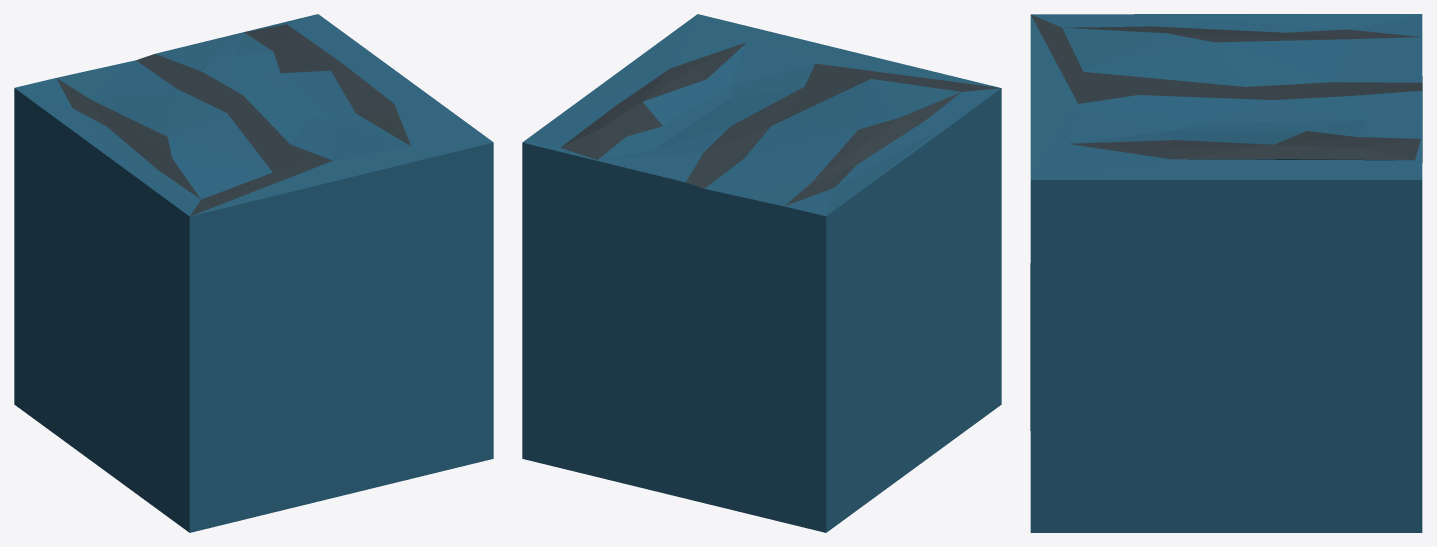
File: water.gltf
3 renders of one model, left to right at view 1: azimuth 30°, elevation 25°; view 2: azimuth 150°, elevation 25°; view 3: azimuth 270°, elevation 25°, orthographic. The views are drawn at different scales.
Visible parts, largest first — view 1: basic_cube.010; view 2: basic_cube.010; view 3: basic_cube.010.
Part boxes in pixels (x1,y1,x2,y2): basic_cube.010: [14, 14, 493, 532]; basic_cube.010: [522, 14, 1001, 532]; basic_cube.010: [1030, 14, 1422, 532].
Size of the model in its own units: 2 by 2.02 by 2.
Materials: 1 (1 with a texture image).
